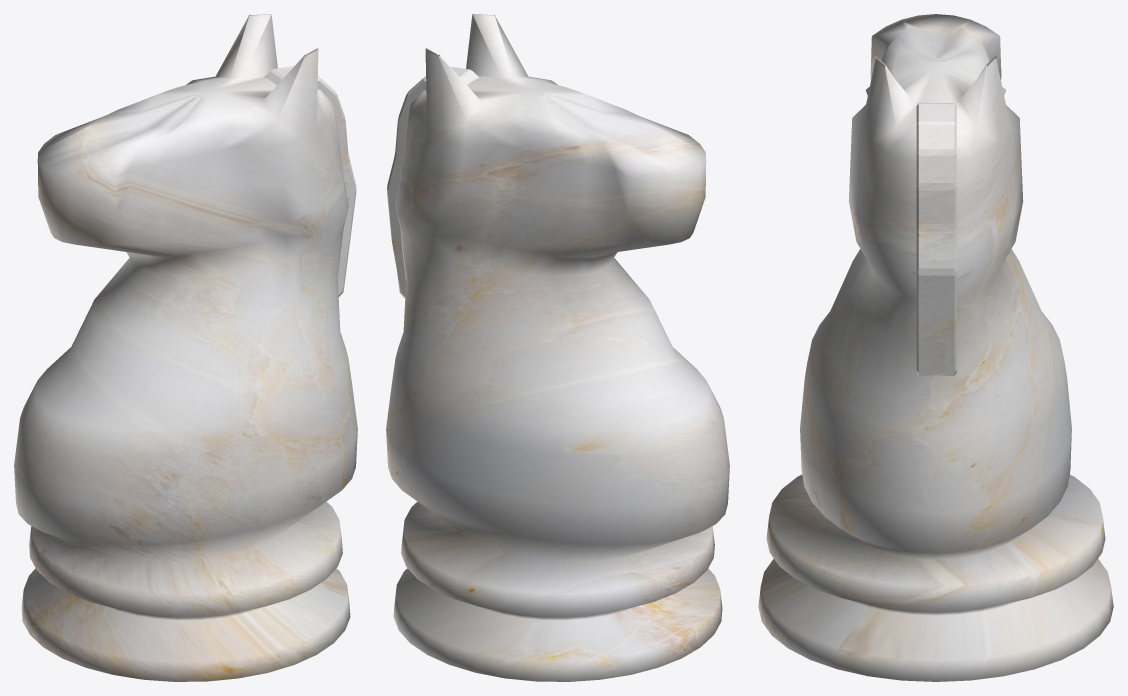
File: knight.glb
The picture shows the model from 3 angles, left to right: view 1: azimuth 30°, elevation 25°; view 2: azimuth 150°, elevation 25°; view 3: azimuth 270°, elevation 25°; orthographic projection. The views are drawn at different scales.
Visible parts, largest first — view 1: Cylinder; view 2: Cylinder; view 3: Cylinder.
Part boxes in pixels (bbox=[...]): Cylinder: bbox=[14, 14, 357, 681]; Cylinder: bbox=[386, 14, 729, 681]; Cylinder: bbox=[758, 14, 1113, 681].
Size of the model in its own units: 6.78 by 11.17 by 6.
1 material, 1 textured.
